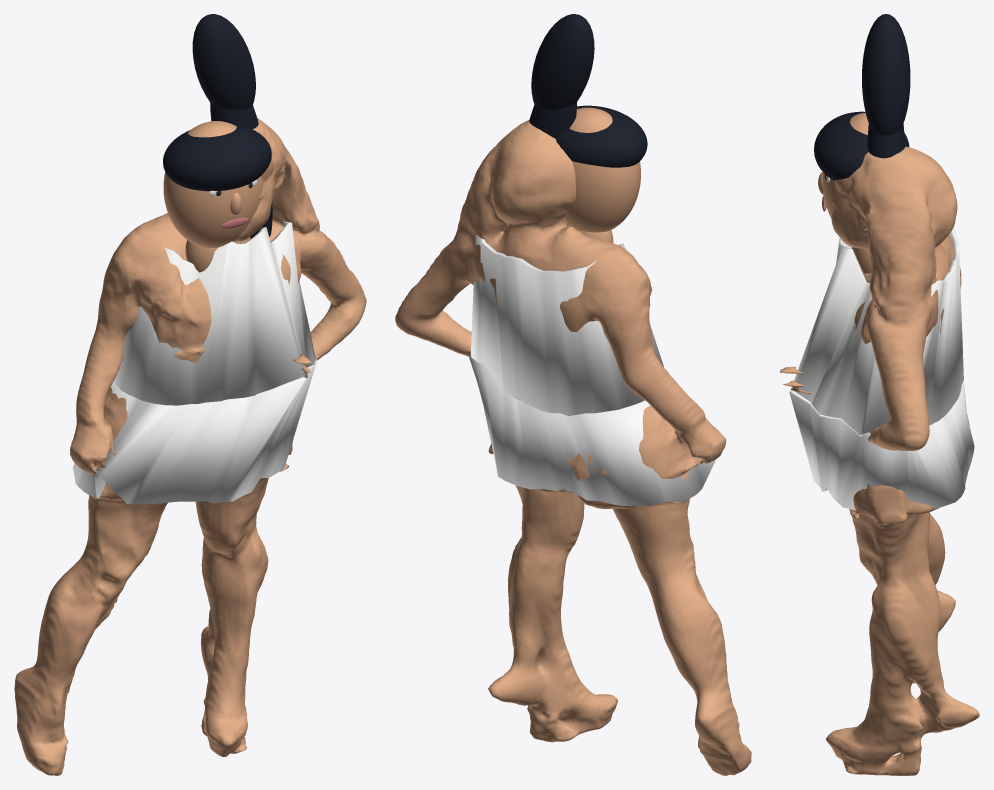
File: hybrid-ariana-fitted-garments.glb
3 renders of one model, left to right at view 1: azimuth 30°, elevation 25°; view 2: azimuth 150°, elevation 25°; view 3: azimuth 270°, elevation 25°, orthographic. The views are drawn at different scales.
Parts seen in each view (by area): view 1: pifuhd_body_base, clean_crop_top_overlay, clean_skirt_overlay, hair_cap, clear_stylized_head, high_ponytail_volume, falling_hair_shape, smooth_neck; view 2: pifuhd_body_base, clean_crop_top_overlay, clean_skirt_overlay, clear_stylized_head, high_ponytail_volume, hair_cap, falling_hair_shape; view 3: pifuhd_body_base, clean_crop_top_overlay, clean_skirt_overlay, high_ponytail_volume, hair_cap, falling_hair_shape, clear_stylized_head.
Boxes of the visible parts, <box> form: pifuhd_body_base: <box>14,118,366,775</box>; clean_crop_top_overlay: <box>114,221,315,405</box>; clean_skirt_overlay: <box>72,357,316,503</box>; hair_cap: <box>163,125,271,191</box>; clear_stylized_head: <box>163,121,263,247</box>; high_ponytail_volume: <box>192,14,255,109</box>; falling_hair_shape: <box>210,102,272,238</box>; smooth_neck: <box>185,240,236,272</box>; pifuhd_body_base: <box>395,119,751,775</box>; clean_crop_top_overlay: <box>470,235,663,416</box>; clean_skirt_overlay: <box>469,354,716,506</box>; clear_stylized_head: <box>565,107,640,232</box>; high_ponytail_volume: <box>531,14,594,109</box>; hair_cap: <box>556,105,647,167</box>; falling_hair_shape: <box>529,102,576,138</box>; pifuhd_body_base: <box>780,146,979,775</box>; clean_crop_top_overlay: <box>791,228,963,434</box>; clean_skirt_overlay: <box>789,380,974,510</box>; high_ponytail_volume: <box>862,14,910,135</box>; hair_cap: <box>814,111,909,180</box>; falling_hair_shape: <box>867,123,905,251</box>; clear_stylized_head: <box>822,112,868,217</box>.
Size of the model in its own units: 1.01 by 2.04 by 0.4915.
